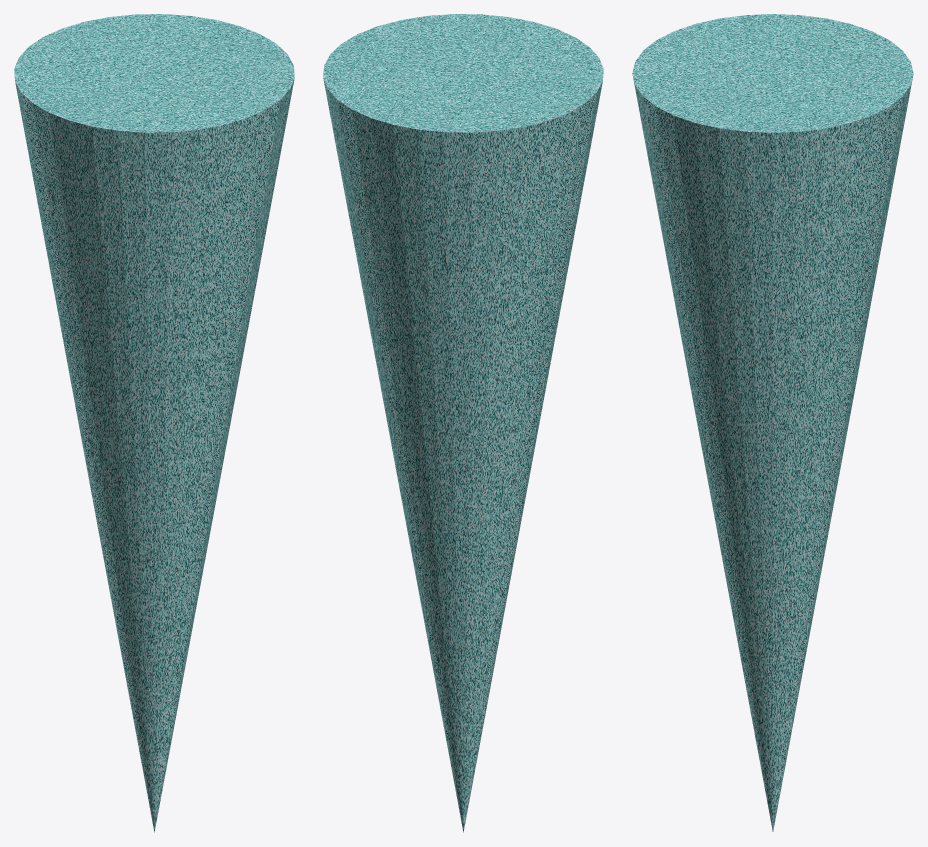
Rendered from Icicles.obj.
3 renders of one model, left to right at view 1: azimuth 30°, elevation 25°; view 2: azimuth 150°, elevation 25°; view 3: azimuth 270°, elevation 25°, orthographic.
Visible parts, largest first — view 1: 円錐; view 2: 円錐; view 3: 円錐.
Boxes of the visible parts, left/top/right/bottom form: 円錐: left=14, top=14, right=294, bottom=832; 円錐: left=323, top=14, right=603, bottom=832; 円錐: left=632, top=14, right=913, bottom=831.
Size of the model in its own units: 0.684 by 2.04 by 0.684.
Materials: 1 (1 with a texture image).
